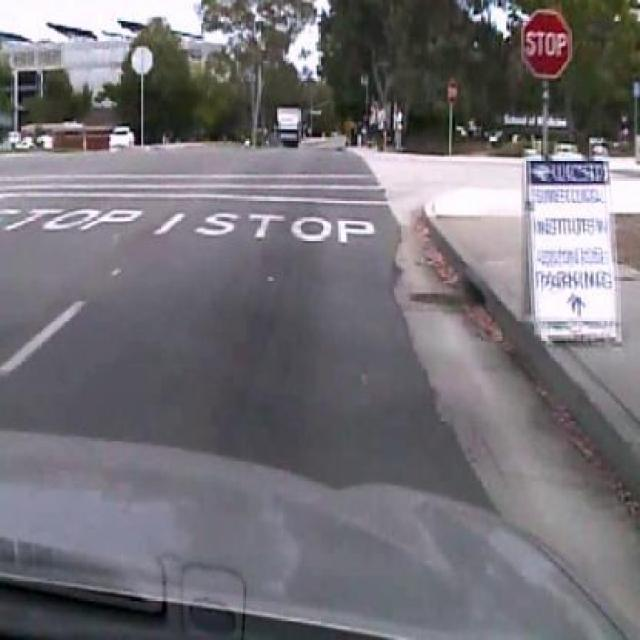traffic_sign: (518, 8, 574, 83)
